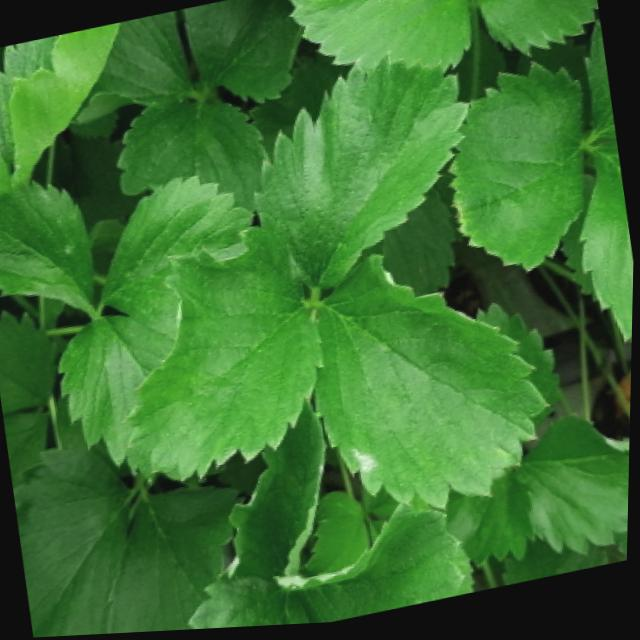Powdery Mildew Leaf: (311, 256, 552, 515)
